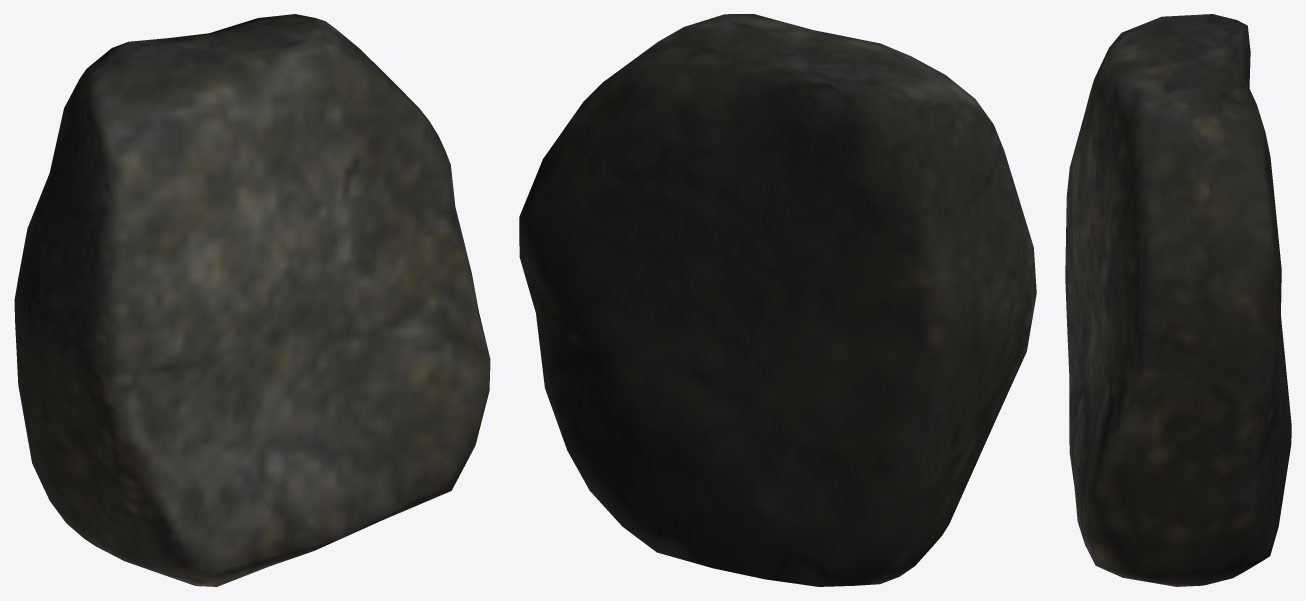
Rendered from rock_small_01.obj.
3 views of the same model, side by side, from view 1: azimuth 30°, elevation 25°; view 2: azimuth 150°, elevation 25°; view 3: azimuth 270°, elevation 25° (orthographic). The views are drawn at different scales.
Visible parts, largest first — view 1: rock_small_01; view 2: rock_small_01; view 3: rock_small_01.
Part boxes in pixels (x1,y1,x2,y2): rock_small_01: [14, 14, 490, 586]; rock_small_01: [519, 14, 1036, 586]; rock_small_01: [1065, 14, 1291, 586].
Bounding box in the file's own units: 3.53 × 4 × 1.77.
Materials: 1 (1 with a texture image).
